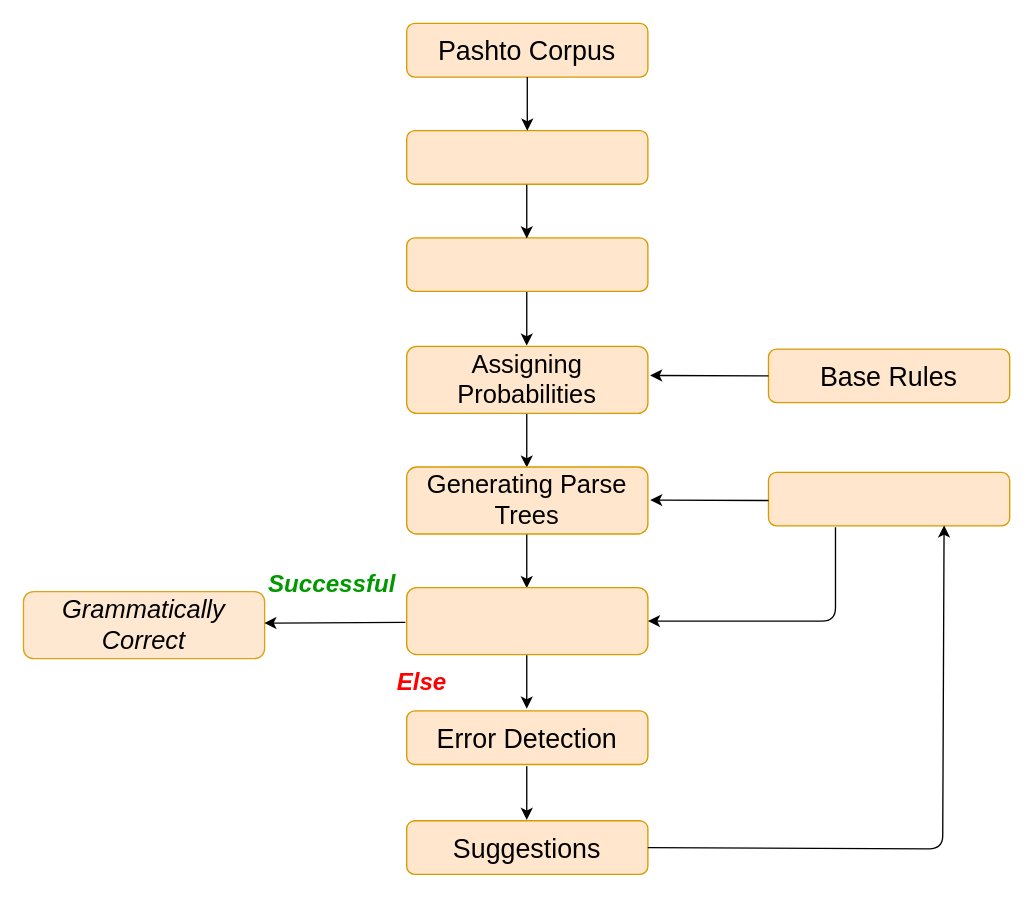
Image size: 1033x898. Some labels were removed from this diagram. The shapes that lost their labels are listed below. From the top down, each one's box as (x1, y1, x2, y2) in pixels, then its label:
(405, 129, 648, 184): Tokenization
(405, 237, 648, 291): POS Tagging
(767, 471, 1010, 526): Input Sentence
(405, 586, 648, 655): Tree Bank
